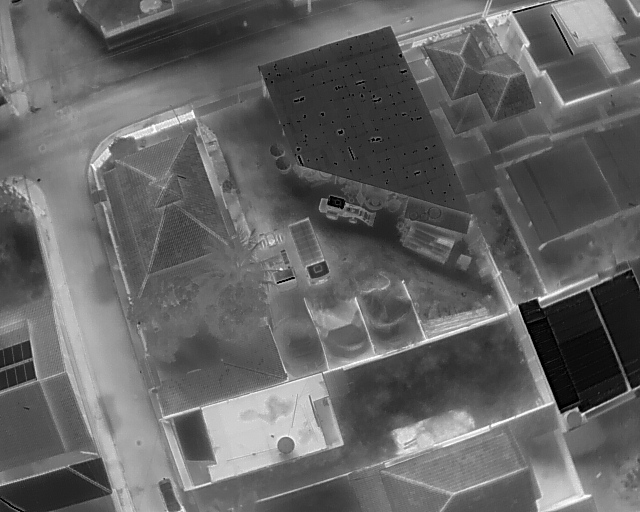car: (7, 0, 27, 11)
person: (397, 11, 420, 27)
truck: (274, 237, 347, 266), (245, 245, 309, 272), (316, 197, 380, 222)
